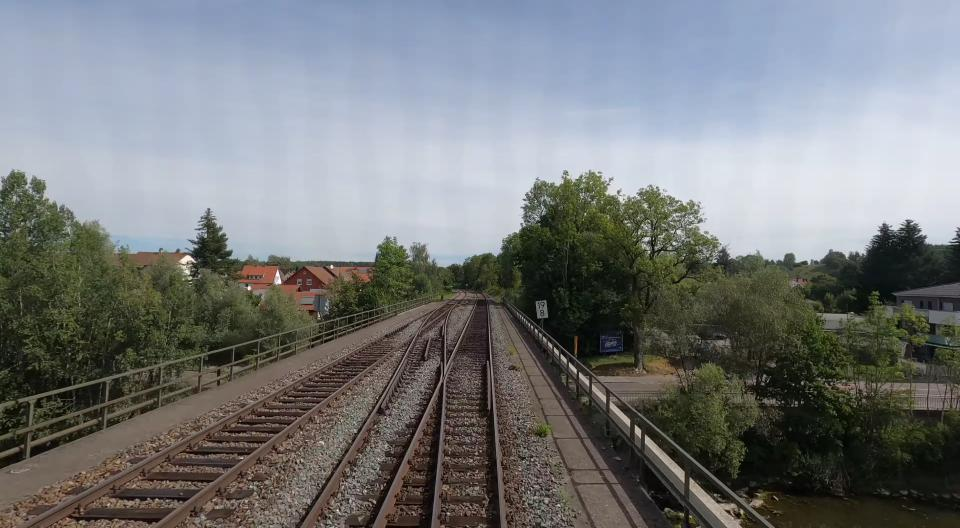Plant: (534, 424, 551, 437), (509, 364, 520, 371), (508, 347, 516, 355)
